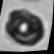correct: (0, 3, 53, 54)
